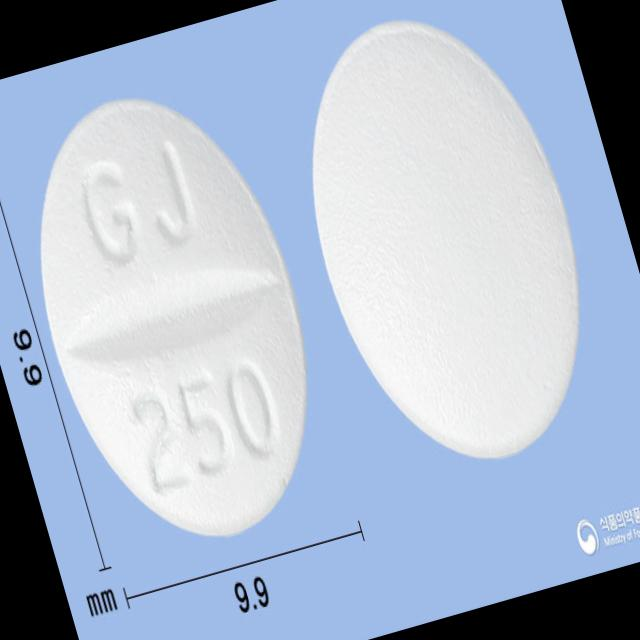Newloxacin Tab: (0, 63, 352, 567)
